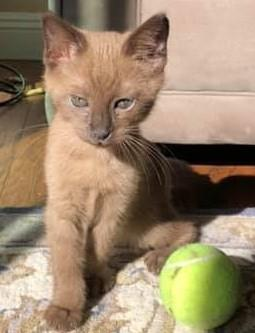siamese: (35, 4, 177, 157)
